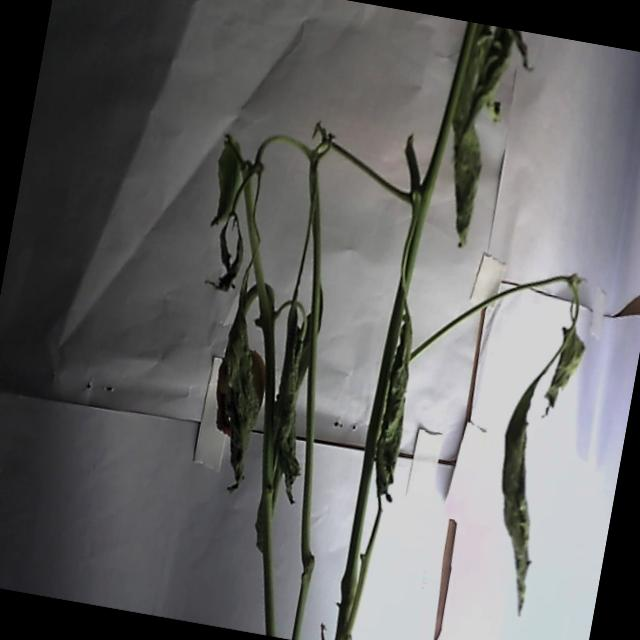Leaf: (474, 374, 566, 620), (198, 268, 284, 490), (426, 21, 508, 249), (254, 298, 329, 502), (365, 316, 423, 502), (540, 315, 590, 418), (205, 134, 248, 229)
